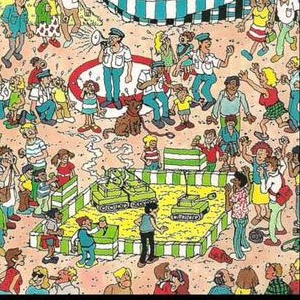Odlaw: (134, 162, 167, 204)
